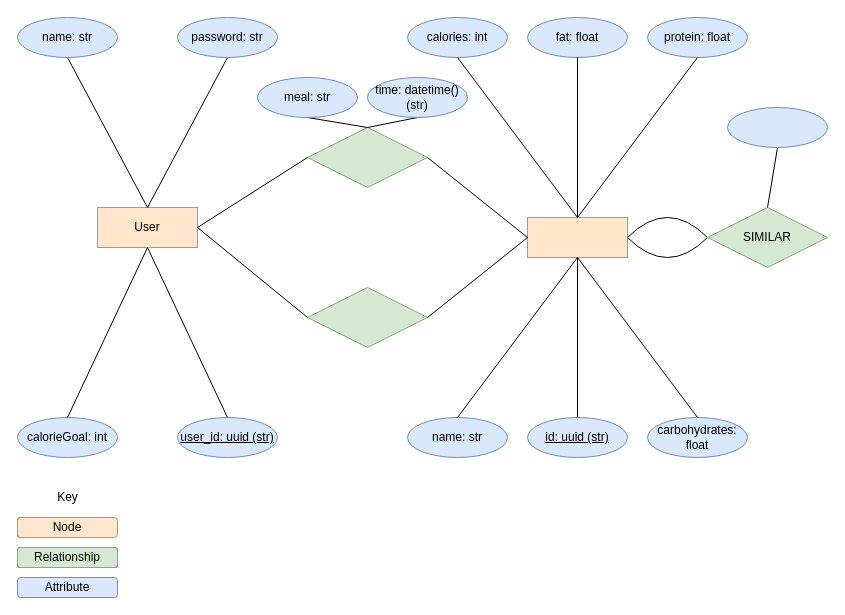
The diagram is 845 pixels wide and 615 high, and some of its shapes have lost their labels. The shapes that lost their labels are listed below. From the top down, each one's centre as x and y in pixels, then its label:
the point at 777,127: score: float
the point at 367,157: ATE
the point at 577,237: food
the point at 367,317: LIKES
